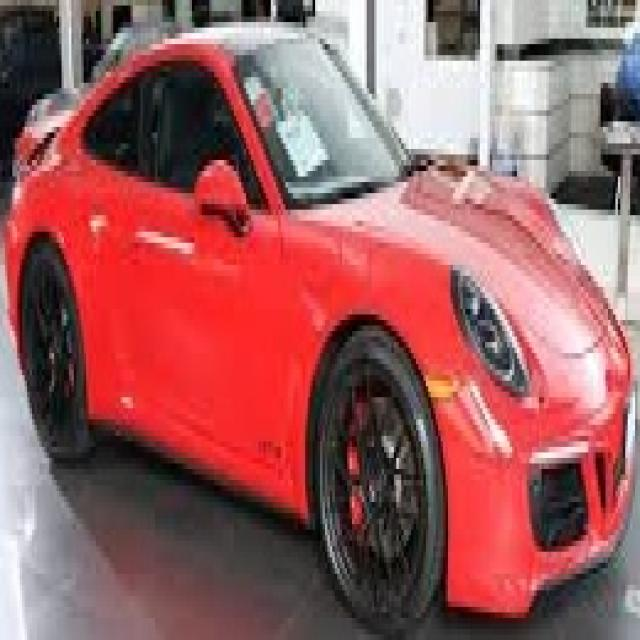red: (10, 0, 640, 629)
